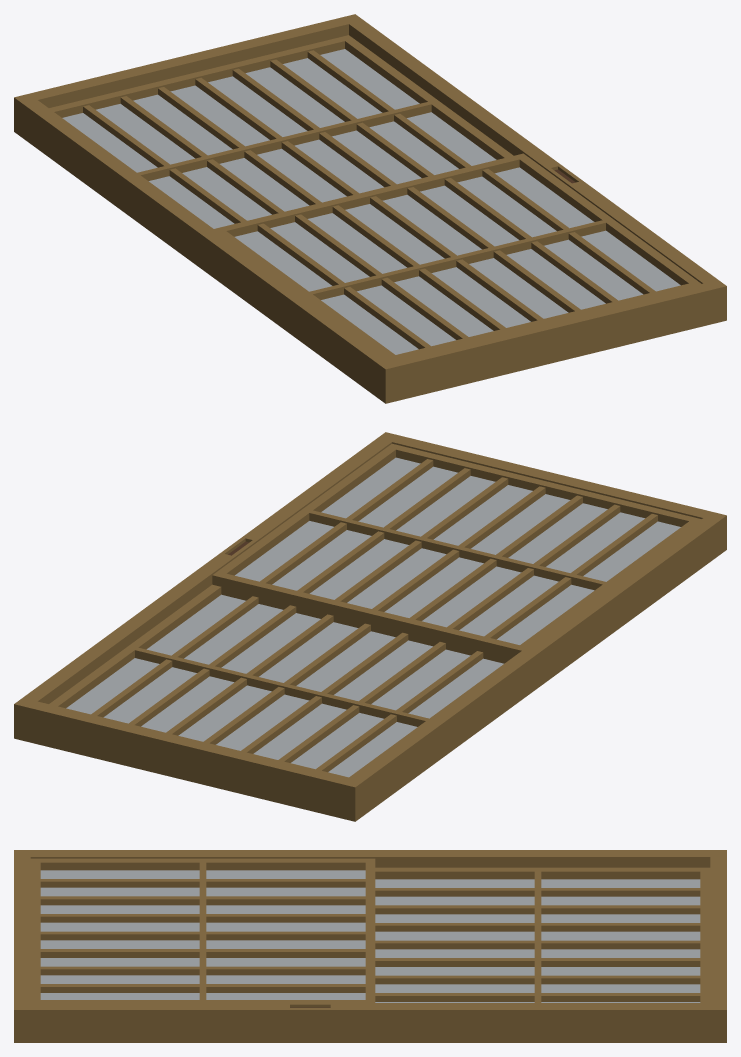
Rendered from Syoji_left.fbx.
3 views of the same model, one above another, from view 1: azimuth 30°, elevation 25°; view 2: azimuth 150°, elevation 25°; view 3: azimuth 270°, elevation 25° (orthographic). The views are drawn at different scales.
Parts seen in each view (by area): view 1: syoji.left; view 2: syoji.left; view 3: syoji.left.
Boxes of the visible parts, left/top/right/bottom form: syoji.left: left=14, top=14, right=726, bottom=403; syoji.left: left=14, top=432, right=726, bottom=821; syoji.left: left=14, top=850, right=726, bottom=1042.
Bounding box in the file's own units: 114 × 11 × 215.
